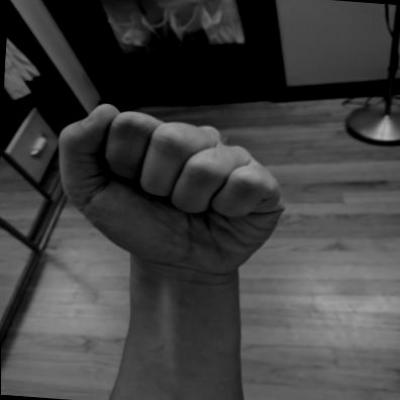hand: (41, 94, 296, 289)
